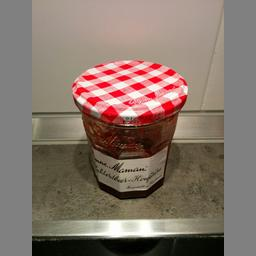jam: (70, 57, 188, 199)
